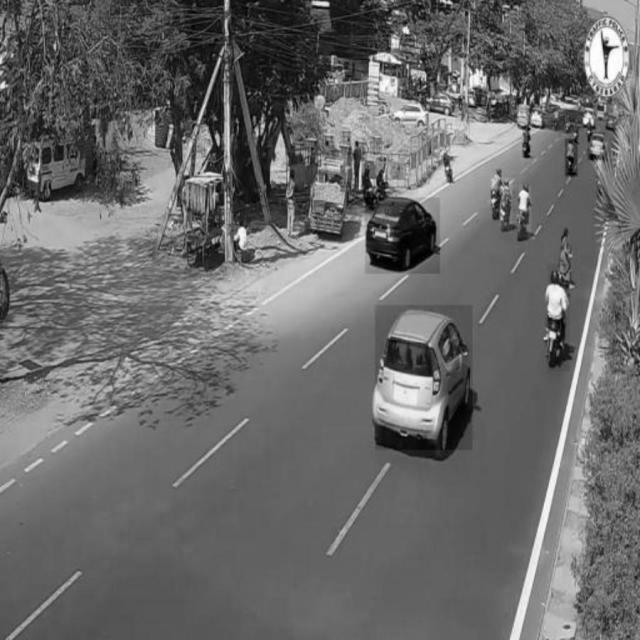vehicle: (375, 305, 473, 449), (365, 198, 439, 274), (547, 263, 571, 371), (501, 177, 513, 233), (519, 184, 531, 238), (588, 132, 605, 160), (493, 170, 503, 217), (565, 140, 577, 177), (522, 126, 530, 158)
